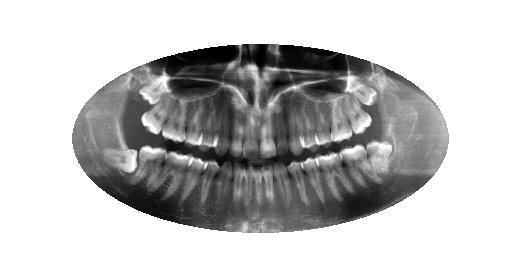i10decay: (228, 158, 244, 212)
i11healthy: (215, 156, 235, 212)
i12healthy: (200, 154, 221, 209)
i13healthy: (178, 152, 208, 214)
i14healthy: (148, 143, 193, 206)
i15decay: (127, 136, 168, 196)
i16healthy: (97, 141, 143, 180)
i1healthy: (364, 132, 395, 182)
i2healthy: (337, 145, 381, 194)
i3healthy: (312, 149, 360, 201)
i4healthy: (297, 155, 328, 209)
i5healthy: (283, 159, 311, 209)
i6healthy: (272, 155, 295, 211)
i7healthy: (261, 163, 280, 212)
i8decay: (248, 161, 267, 216)
i9decay: (240, 158, 256, 216)
u10healthy: (227, 95, 246, 162)
u11healthy: (213, 100, 232, 157)
u12healthy: (196, 100, 218, 154)
u13healthy: (182, 104, 204, 152)
u14healthy: (163, 94, 188, 149)
u15healthy: (140, 93, 174, 140)
u16healthy: (136, 74, 178, 108)
u1healthy: (339, 68, 382, 111)
u2healthy: (336, 92, 374, 139)
u3healthy: (324, 89, 355, 146)
u4healthy: (306, 93, 339, 149)
u5healthy: (293, 96, 323, 153)
u6healthy: (284, 97, 306, 157)
u7decay: (272, 100, 291, 159)
u8healthy: (257, 104, 277, 162)
u9decay: (238, 98, 262, 162)
